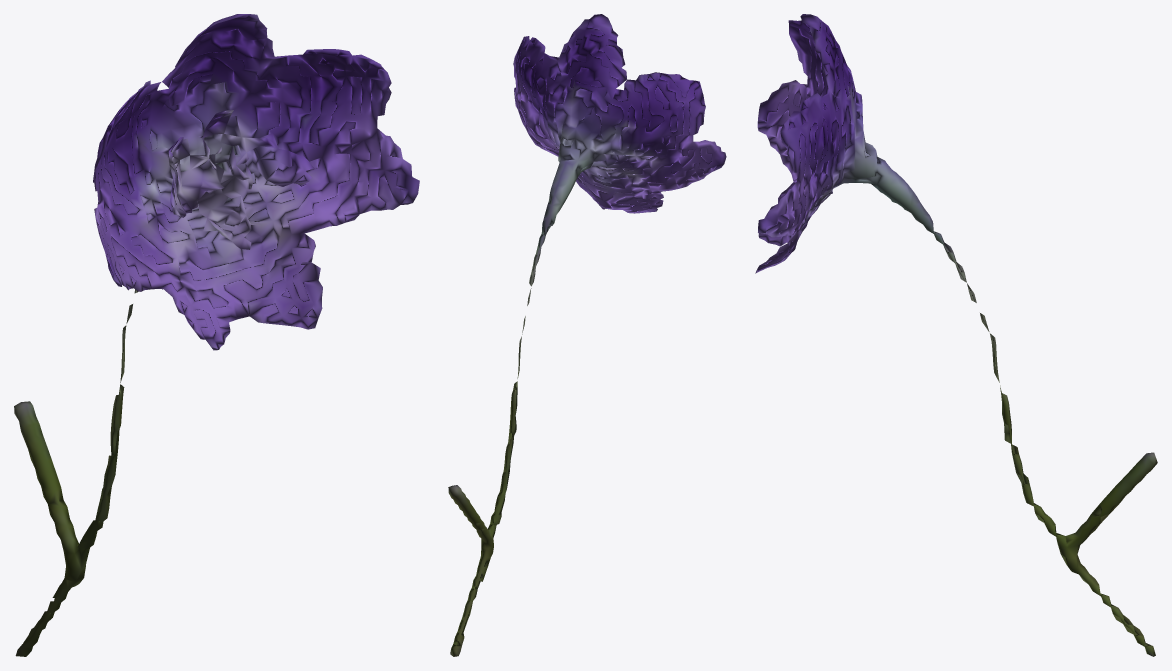
Rendered from flor.glb.
The picture shows the model from 3 angles, left to right: view 1: azimuth 30°, elevation 25°; view 2: azimuth 150°, elevation 25°; view 3: azimuth 270°, elevation 25°; orthographic projection. The views are drawn at different scales.
Size of the model in its own units: 0.8041 by 1.98 by 1.13.
